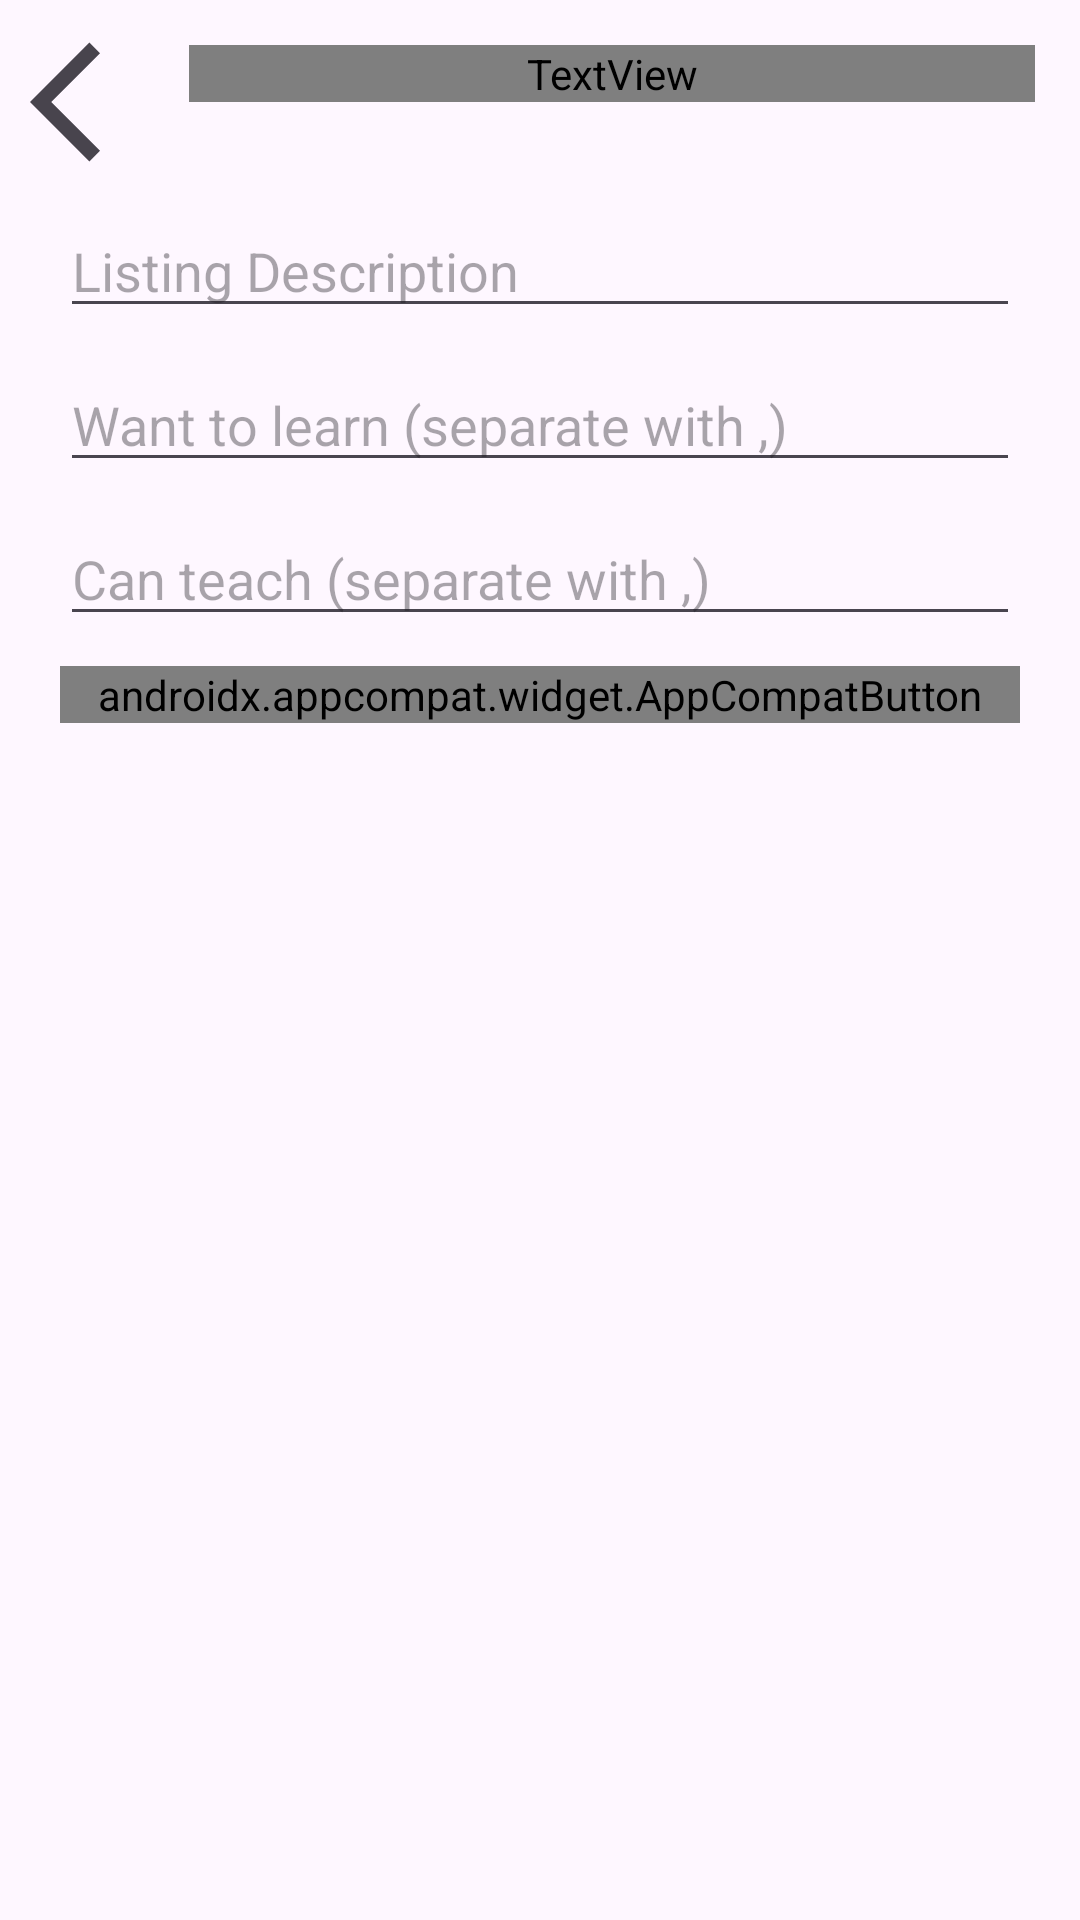

Where to tap for icons on this 1080w x 1920h app screen, as (x,y):
back arrow: (65,102)
